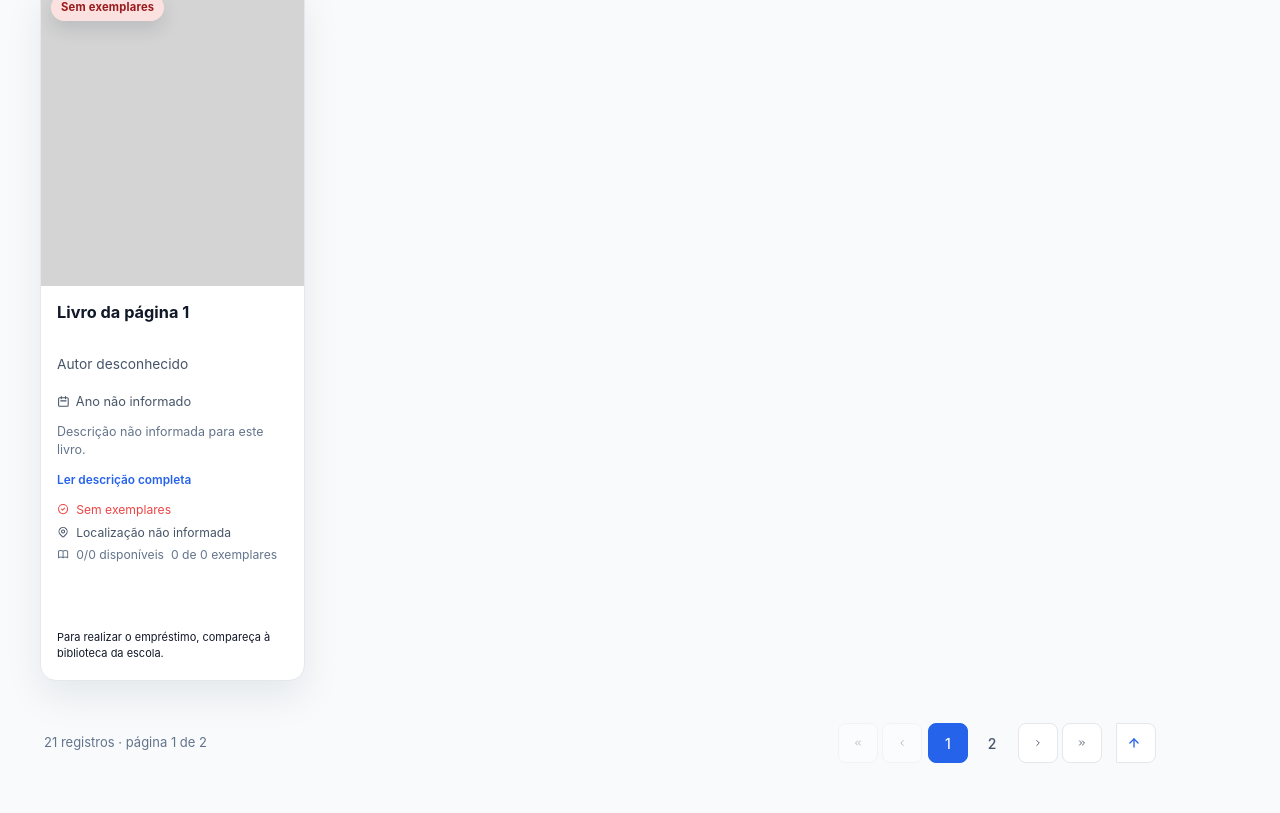
Scenario: navegar entre páginas busca somente os livros da página escolhida
(page scrolled)
Expected: the heading "Livro da página 1" is shown, [57,302,189,322]
Click the button named "Próxima página". click: (1038, 743)
box: [1018,723,1058,763]
(page scrolled)
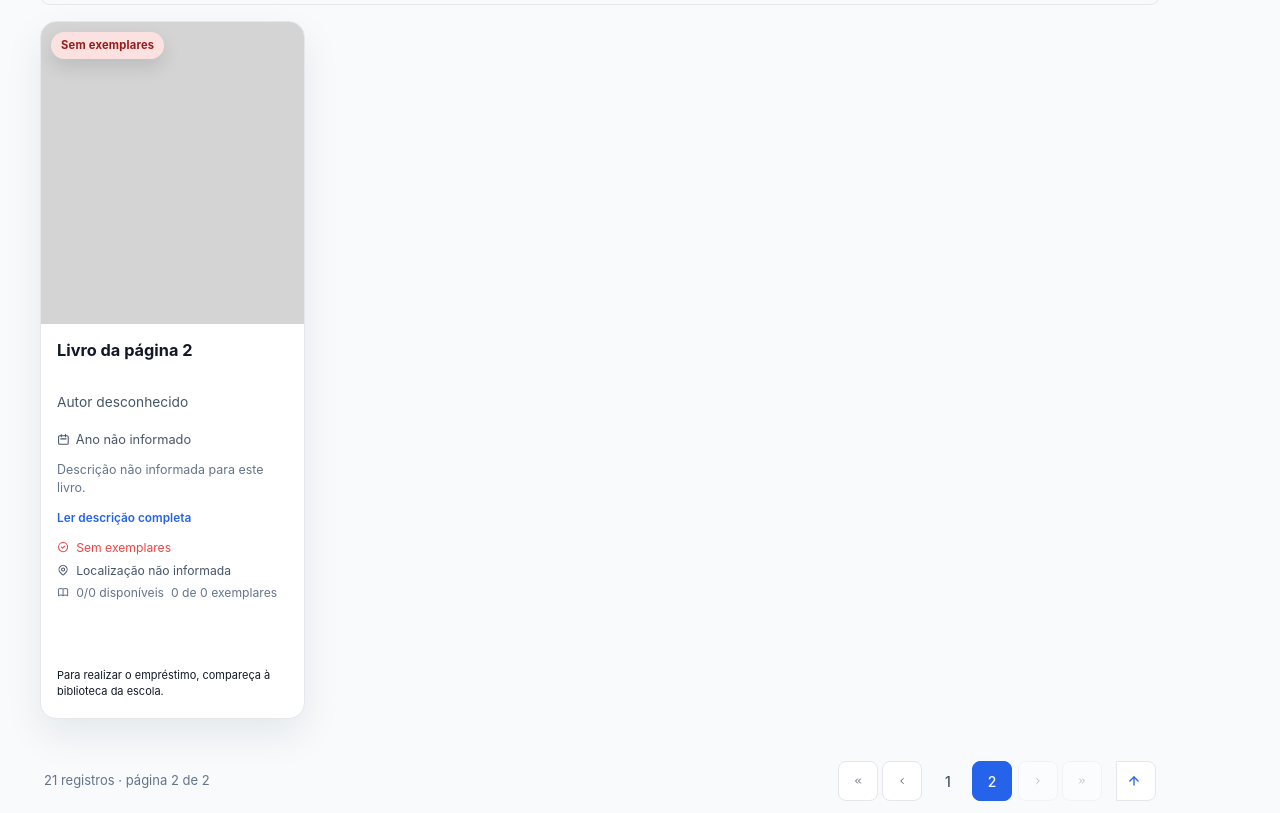
Expected: the heading "Livro da página 2" is shown, [57,340,193,360]
